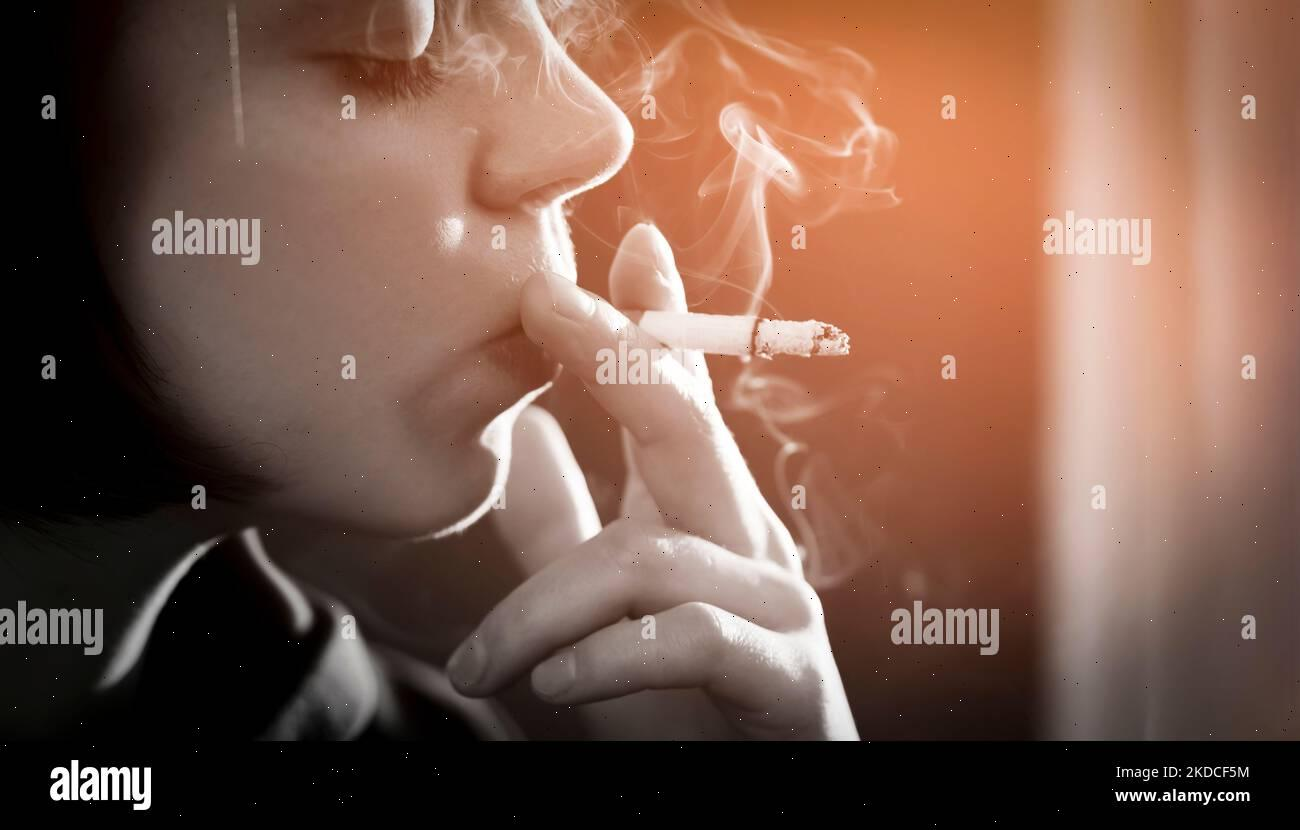cigarette: (625, 310, 848, 357)
